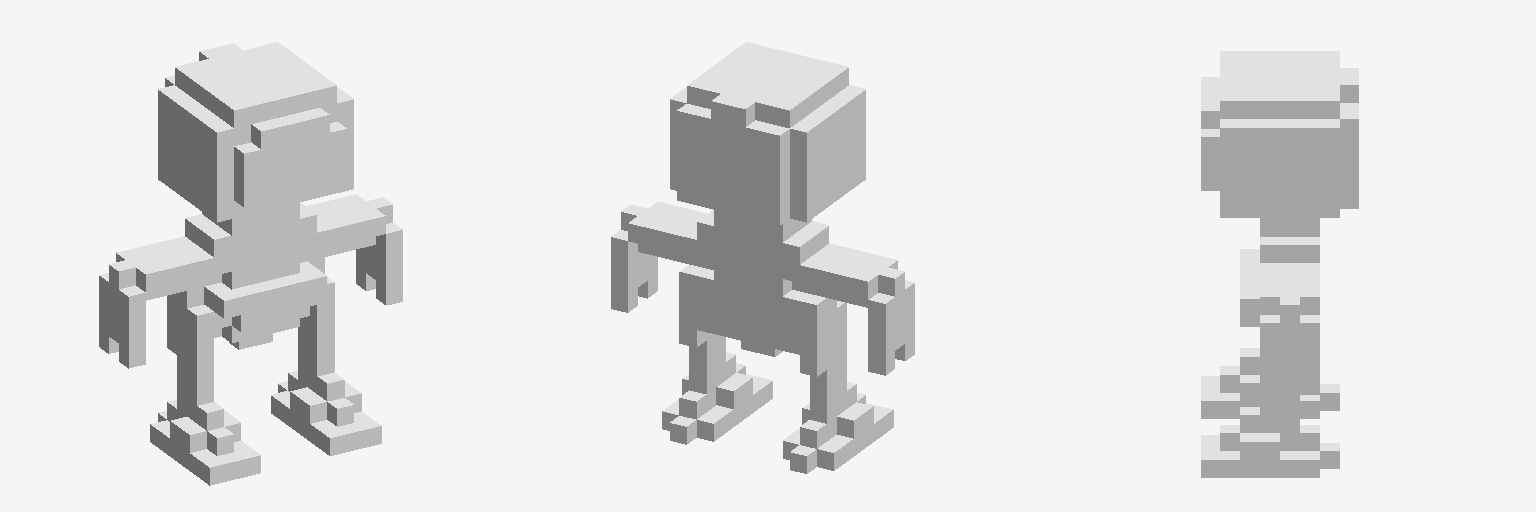
Rendered from boss_enemy.obj.
3 views of the same model, side by side, from view 1: azimuth 30°, elevation 25°; view 2: azimuth 150°, elevation 25°; view 3: azimuth 270°, elevation 25° (orthographic).
Parts seen in each view (by area): view 1: object 1; view 2: object 1; view 3: object 1.
Part boxes in pixels (x1,y1,x2,y2): object 1: (99, 42, 402, 485); object 1: (611, 42, 914, 473); object 1: (1201, 51, 1358, 477).
Size of the model in its own units: 1.6 by 2 by 0.8.